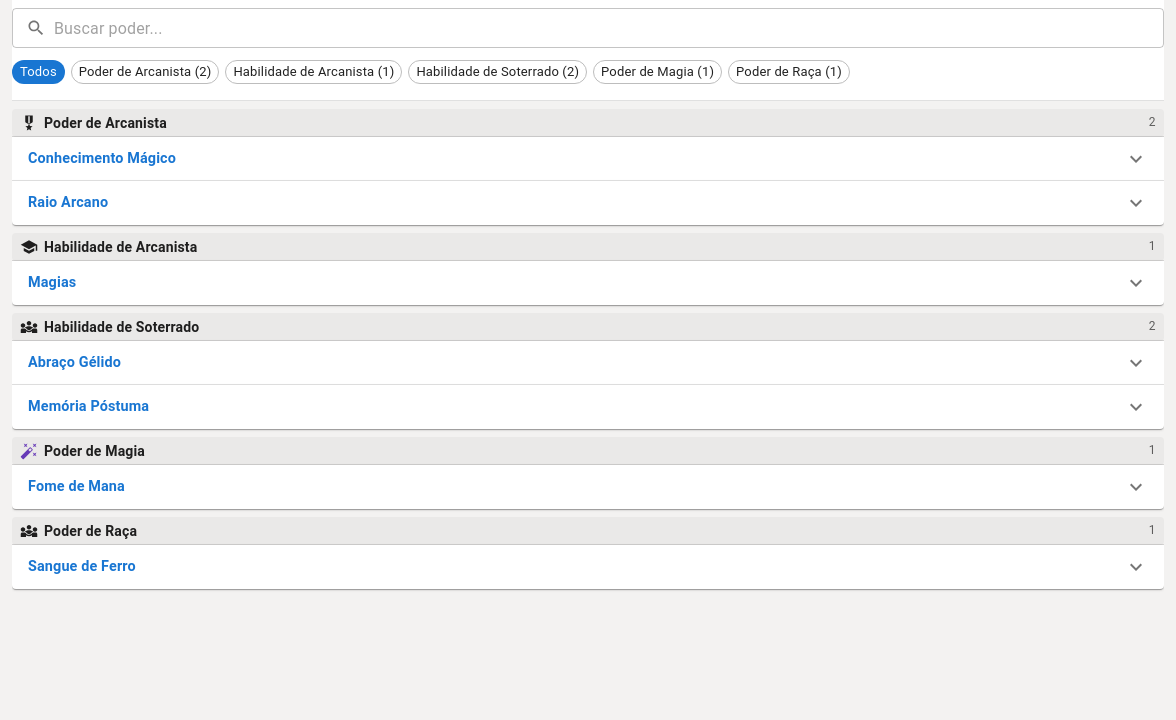
Test: PowersDisplay › esconde os chips quando a busca deixa um grupo só
The width and height of the screenshot is (1176, 720).
Type "raio" into the field with placeholder "Buscar poder..." at point(609, 28), box [54,8,1164,48]
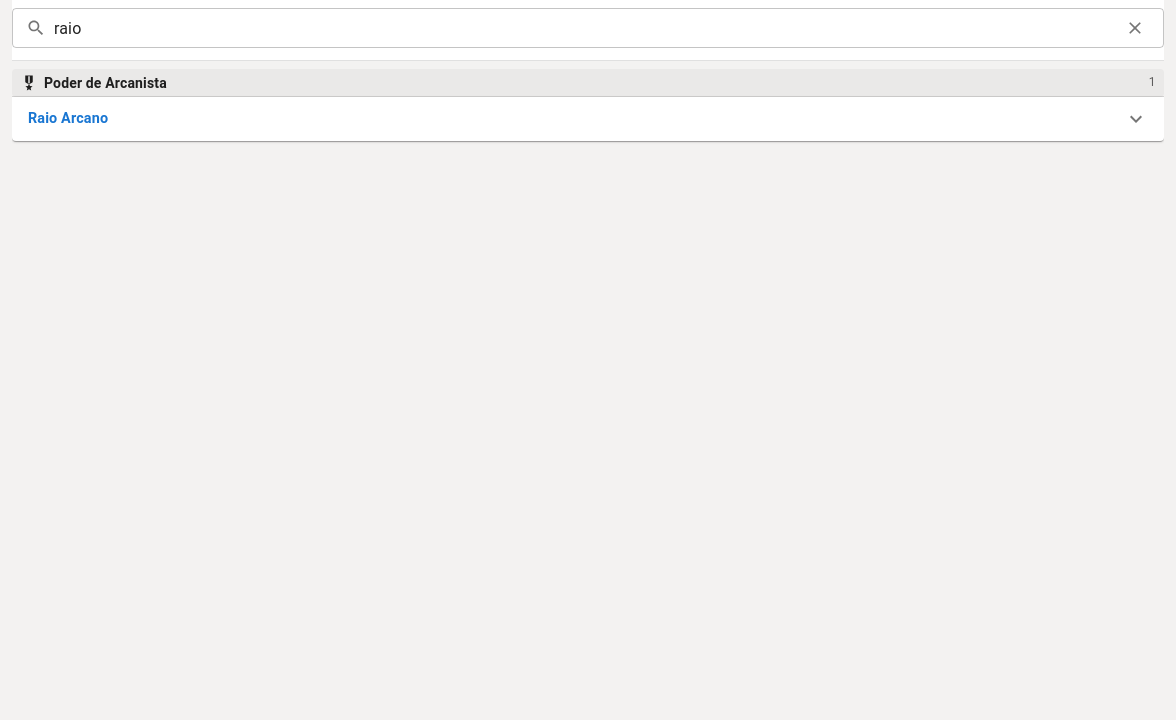
Expected: the text "Raio Arcano" is shown, [28,110,108,127]
Expected: the button "Todos" is gone
